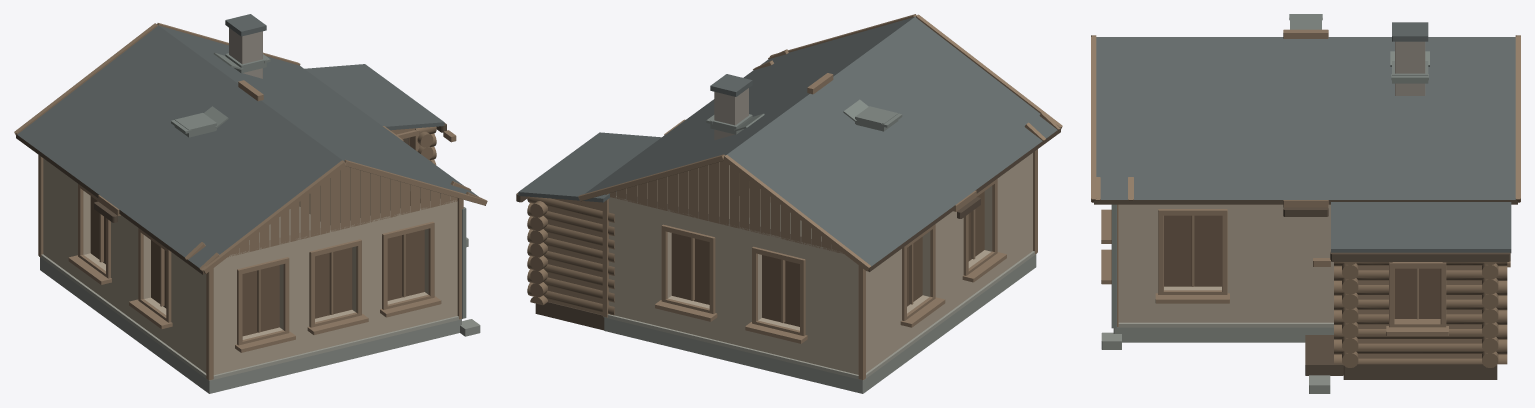
File: variant-b-opaque-for-retexture.glb
3 renders of one model, left to right at view 1: azimuth 30°, elevation 25°; view 2: azimuth 150°, elevation 25°; view 3: azimuth 270°, elevation 25°, orthographic. The views are drawn at different scales.
Visible parts, largest first — view 1: VariantB_PlasterAnnex_Dwelling_Roof_LOD0, VariantB_PlasterAnnex_Dwelling_Street_Wall_LOD0, VariantB_PlasterAnnex_Dwelling_Left_Wall_LOD0, VariantB_PlasterAnnex_Dwelling_Front_BoardedGable_LOD0, VariantB_PlasterAnnex_Dwelling_Foundation_LOD0, VariantB_PlasterAnnex_Dwelling_SeniRoof_LOD0, VariantB_PlasterAnnex_Dwelling_FootingCap_LOD0, VariantB_PlasterAnnex_Dwelling_Street_Window2_Recess_LOD0, VariantB_PlasterAnnex_Dwelling_Street_Window1_Recess_LOD0, VariantB_PlasterAnnex_Dwelling_Street_Window0_Recess_LOD0, VariantB_PlasterAnnex_Dwelling_Front_VergeLeft_LOD0, VariantB_PlasterAnnex_Dwelling_ChimneyStack_LOD0 (+26 smaller); view 2: VariantB_PlasterAnnex_Dwelling_Roof_LOD0, VariantB_PlasterAnnex_Dwelling_Rear_Wall_LOD0, VariantB_PlasterAnnex_Dwelling_Left_Wall_LOD0, VariantB_PlasterAnnex_Dwelling_Back_BoardedGable_LOD0, VariantB_PlasterAnnex_Dwelling_Foundation_LOD0, VariantB_PlasterAnnex_Dwelling_SeniRear_LogCrown, VariantB_PlasterAnnex_Dwelling_SeniRoof_LOD0, VariantB_PlasterAnnex_Dwelling_FootingCap_LOD0, VariantB_PlasterAnnex_Dwelling_Rear_Window0_Recess_LOD0, VariantB_PlasterAnnex_Dwelling_Rear_Window1_Recess_LOD0, VariantB_PlasterAnnex_Dwelling_SeniRear_Wall_LOD0, VariantB_PlasterAnnex_Dwelling_SeniOuter_LogCrown (+19 smaller); view 3: VariantB_PlasterAnnex_Dwelling_Roof_LOD0, VariantB_PlasterAnnex_Dwelling_Right_Wall_LOD0, VariantB_PlasterAnnex_Dwelling_SeniRoof_LOD0, VariantB_PlasterAnnex_Dwelling_SeniOuter_LogCrown, VariantB_PlasterAnnex_Dwelling_Right_Window0_Recess_LOD0, VariantB_PlasterAnnex_Dwelling_SeniOuter_Wall_LOD0, VariantB_PlasterAnnex_Dwelling_Foundation_LOD0, VariantB_PlasterAnnex_Dwelling_SeniFooting_LOD0, VariantB_PlasterAnnex_Dwelling_SeniOuter_Window0_Recess_LOD0, VariantB_PlasterAnnex_Dwelling_SeniTrough_LOD0, VariantB_PlasterAnnex_Dwelling_SeniRear_LogCrown, VariantB_PlasterAnnex_Dwelling_SeniEntry_LogCrown (+21 smaller).
Part boxes in pixels (x1,y1,x2,y2): VariantB_PlasterAnnex_Dwelling_Roof_LOD0: [16, 24, 485, 274]; VariantB_PlasterAnnex_Dwelling_Street_Wall_LOD0: [213, 196, 457, 375]; VariantB_PlasterAnnex_Dwelling_Left_Wall_LOD0: [43, 158, 206, 373]; VariantB_PlasterAnnex_Dwelling_Front_BoardedGable_LOD0: [228, 166, 457, 257]; VariantB_PlasterAnnex_Dwelling_Foundation_LOD0: [40, 257, 461, 393]; VariantB_PlasterAnnex_Dwelling_SeniRoof_LOD0: [304, 64, 444, 130]; VariantB_PlasterAnnex_Dwelling_FootingCap_LOD0: [39, 207, 462, 380]; VariantB_PlasterAnnex_Dwelling_Street_Window2_Recess_LOD0: [387, 229, 424, 300]; VariantB_PlasterAnnex_Dwelling_Street_Window1_Recess_LOD0: [315, 247, 352, 318]; VariantB_PlasterAnnex_Dwelling_Street_Window0_Recess_LOD0: [242, 265, 279, 336]; VariantB_PlasterAnnex_Dwelling_Front_VergeLeft_LOD0: [201, 160, 345, 273]; VariantB_PlasterAnnex_Dwelling_ChimneyStack_LOD0: [229, 28, 262, 78]; VariantB_PlasterAnnex_Dwelling_Roof_LOD0: [580, 16, 1060, 271]; VariantB_PlasterAnnex_Dwelling_Rear_Wall_LOD0: [609, 191, 858, 374]; VariantB_PlasterAnnex_Dwelling_Left_Wall_LOD0: [866, 153, 1032, 372]; VariantB_PlasterAnnex_Dwelling_Back_BoardedGable_LOD0: [609, 161, 843, 253]; VariantB_PlasterAnnex_Dwelling_Foundation_LOD0: [604, 254, 1036, 393]; VariantB_PlasterAnnex_Dwelling_SeniRear_LogCrown: [527, 196, 614, 315]; VariantB_PlasterAnnex_Dwelling_SeniRoof_LOD0: [518, 132, 661, 202]; VariantB_PlasterAnnex_Dwelling_FootingCap_LOD0: [603, 203, 1036, 380]; VariantB_PlasterAnnex_Dwelling_Rear_Window0_Recess_LOD0: [671, 233, 709, 304]; VariantB_PlasterAnnex_Dwelling_Rear_Window1_Recess_LOD0: [762, 255, 799, 326]; VariantB_PlasterAnnex_Dwelling_SeniRear_Wall_LOD0: [548, 198, 602, 314]; VariantB_PlasterAnnex_Dwelling_SeniOuter_LogCrown: [530, 201, 547, 305]; VariantB_PlasterAnnex_Dwelling_Roof_LOD0: [1094, 37, 1517, 204]; VariantB_PlasterAnnex_Dwelling_Right_Wall_LOD0: [1118, 204, 1333, 322]; VariantB_PlasterAnnex_Dwelling_SeniRoof_LOD0: [1331, 202, 1511, 252]; VariantB_PlasterAnnex_Dwelling_SeniOuter_LogCrown: [1334, 262, 1507, 364]; VariantB_PlasterAnnex_Dwelling_Right_Window0_Recess_LOD0: [1164, 215, 1221, 286]; VariantB_PlasterAnnex_Dwelling_SeniOuter_Wall_LOD0: [1358, 265, 1481, 358]; VariantB_PlasterAnnex_Dwelling_Foundation_LOD0: [1113, 327, 1333, 342]; VariantB_PlasterAnnex_Dwelling_SeniFooting_LOD0: [1343, 364, 1497, 379]; VariantB_PlasterAnnex_Dwelling_SeniOuter_Window0_Recess_LOD0: [1394, 268, 1440, 318]; VariantB_PlasterAnnex_Dwelling_SeniTrough_LOD0: [1330, 251, 1510, 261]; VariantB_PlasterAnnex_Dwelling_SeniRear_LogCrown: [1482, 262, 1498, 367]; VariantB_PlasterAnnex_Dwelling_SeniEntry_LogCrown: [1342, 262, 1358, 367].
Bounding box in the file's own units: 8.06 × 4.93 × 7.22.
